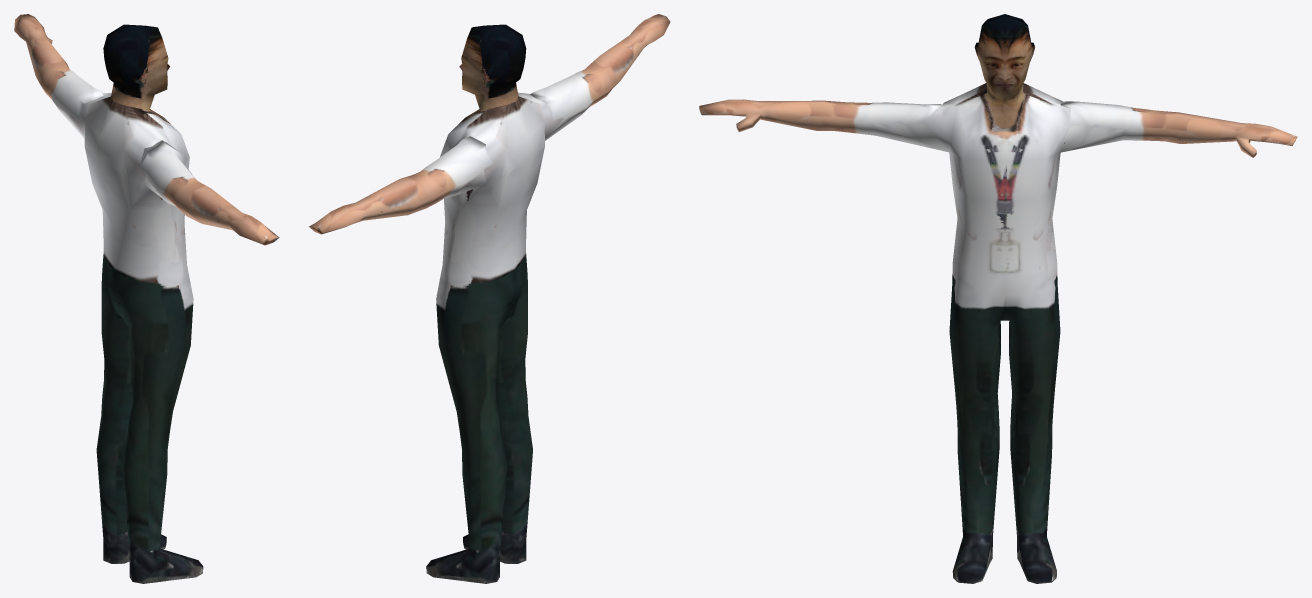
Rendered from phil.obj.
3 views of the same model, side by side, from view 1: azimuth 30°, elevation 25°; view 2: azimuth 150°, elevation 25°; view 3: azimuth 270°, elevation 25° (orthographic).
Visible parts, largest first — view 1: phil; view 2: phil; view 3: phil.
Part boxes in pixels (left/top/right/bottom): phil: left=14, top=14, right=279, bottom=583; phil: left=308, top=14, right=670, bottom=583; phil: left=699, top=14, right=1297, bottom=583.
Bounding box in the file's own units: 0.793 × 4.84 × 4.83.
